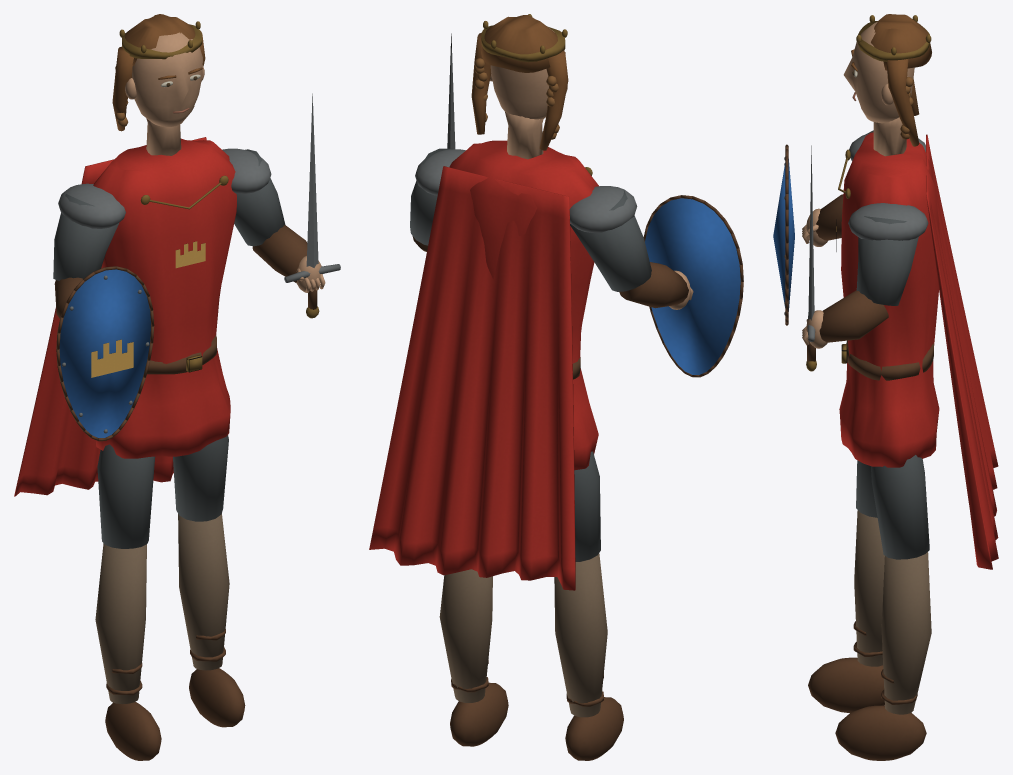
Rendered from SM_HeroinaSoberanaNatural_A_LOD0.fbx.
3 views of the same model, side by side, from view 1: azimuth 30°, elevation 25°; view 2: azimuth 150°, elevation 25°; view 3: azimuth 270°, elevation 25° (orthographic). The views are drawn at different scales.
Parts seen in each view (by area): view 1: SM_HeroinaSoberanaNatural_A_LOD0; view 2: SM_HeroinaSoberanaNatural_A_LOD0; view 3: SM_HeroinaSoberanaNatural_A_LOD0.
Part boxes in pixels (bbox=[...]): SM_HeroinaSoberanaNatural_A_LOD0: bbox=[14, 14, 340, 760]; SM_HeroinaSoberanaNatural_A_LOD0: bbox=[369, 14, 743, 760]; SM_HeroinaSoberanaNatural_A_LOD0: bbox=[773, 14, 998, 760].
Size of the model in its own units: 0.1881 by 0.4317 by 0.124.
Materials: 1 (1 with a texture image).
